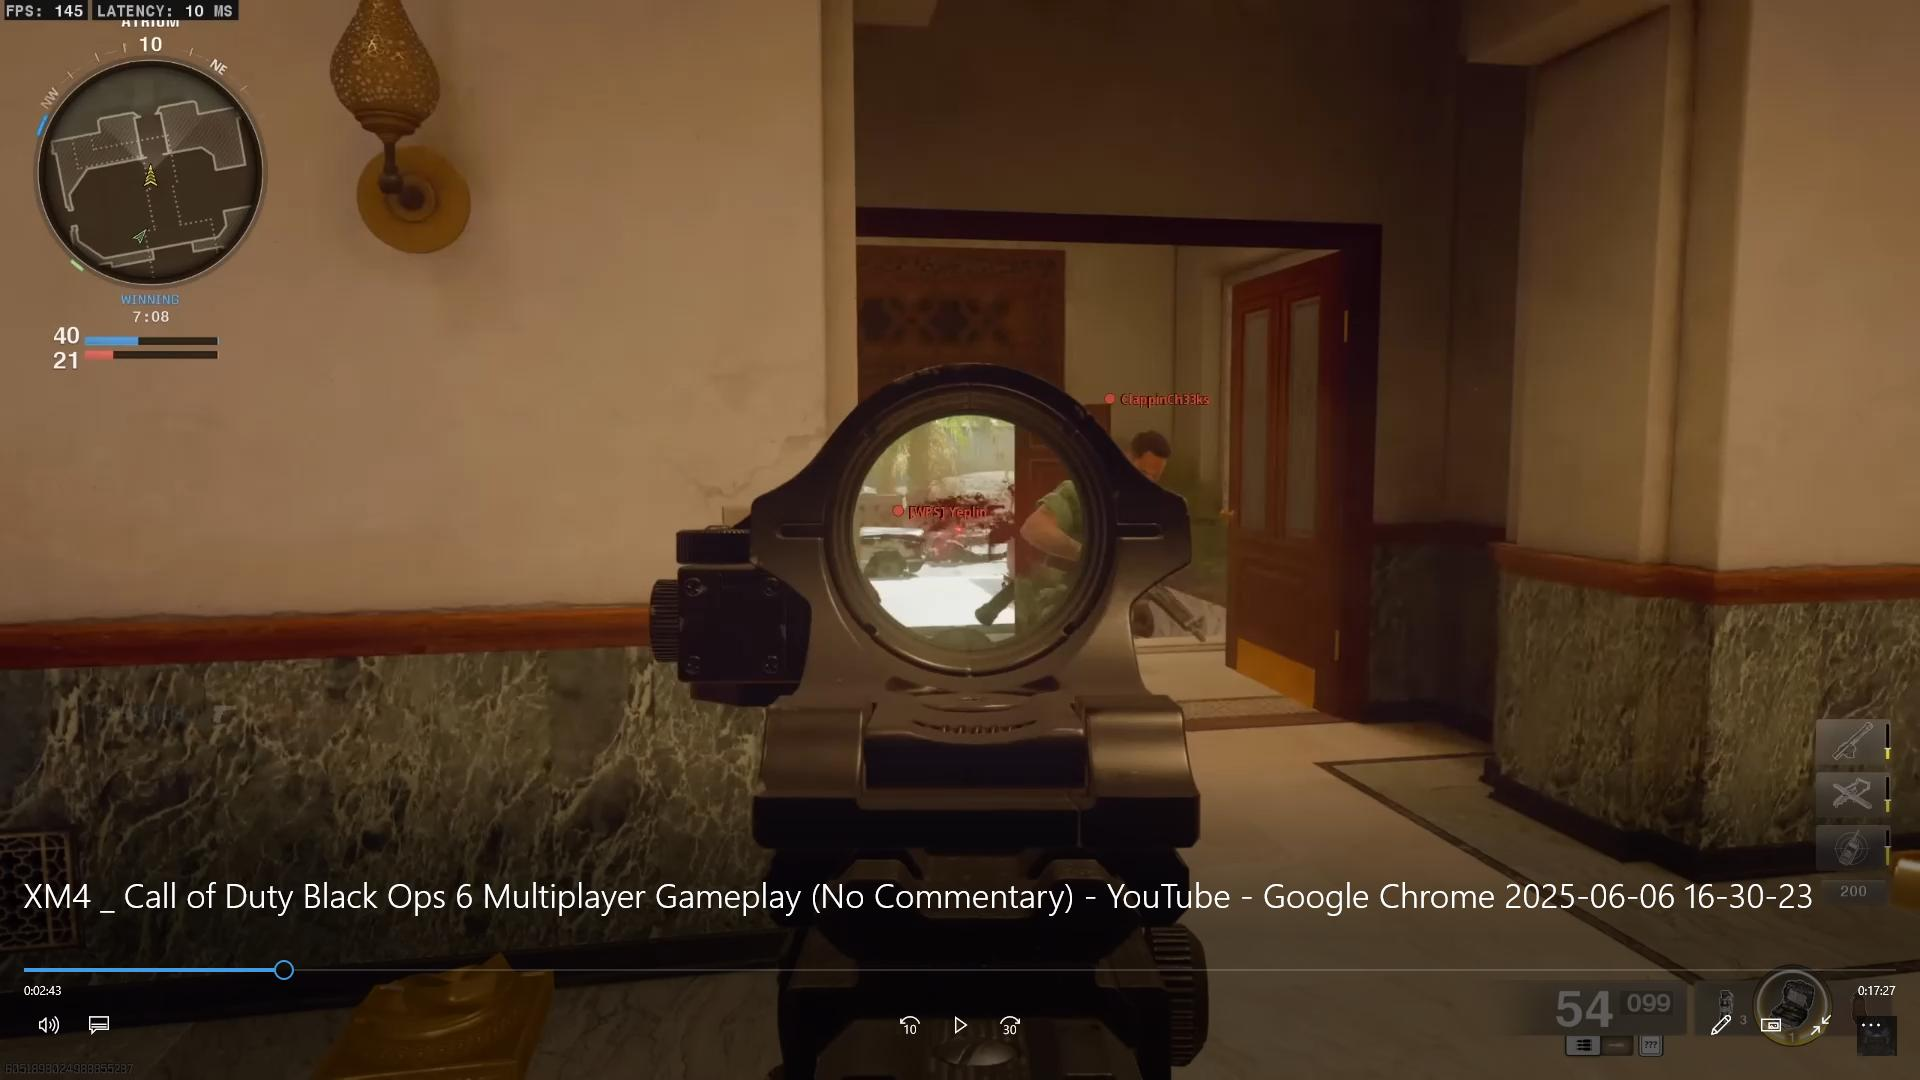Enemy: (1100, 377, 1217, 489)
